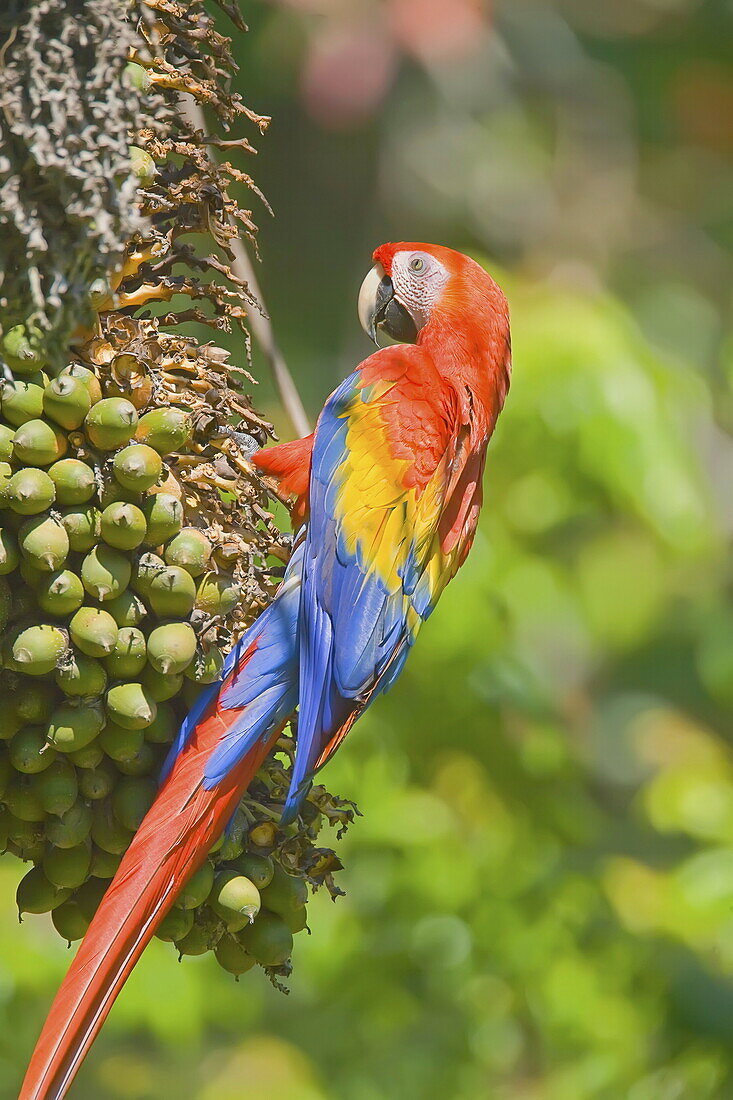Lapa: (57, 226, 536, 1088)
